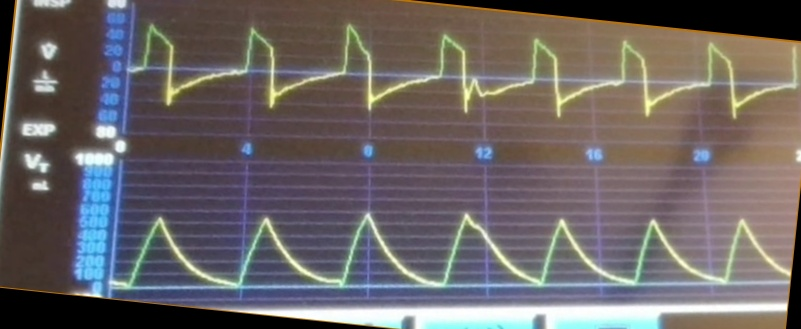Premature_cycling Flow: (134, 21, 798, 122)
Premature_cycling Volume: (119, 210, 786, 293)
